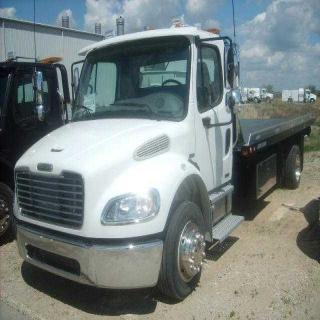Towing_truck: (10, 20, 316, 303)
